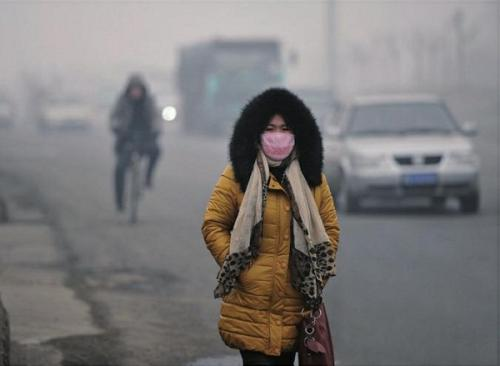person: (199, 86, 347, 365), (102, 69, 173, 226)
